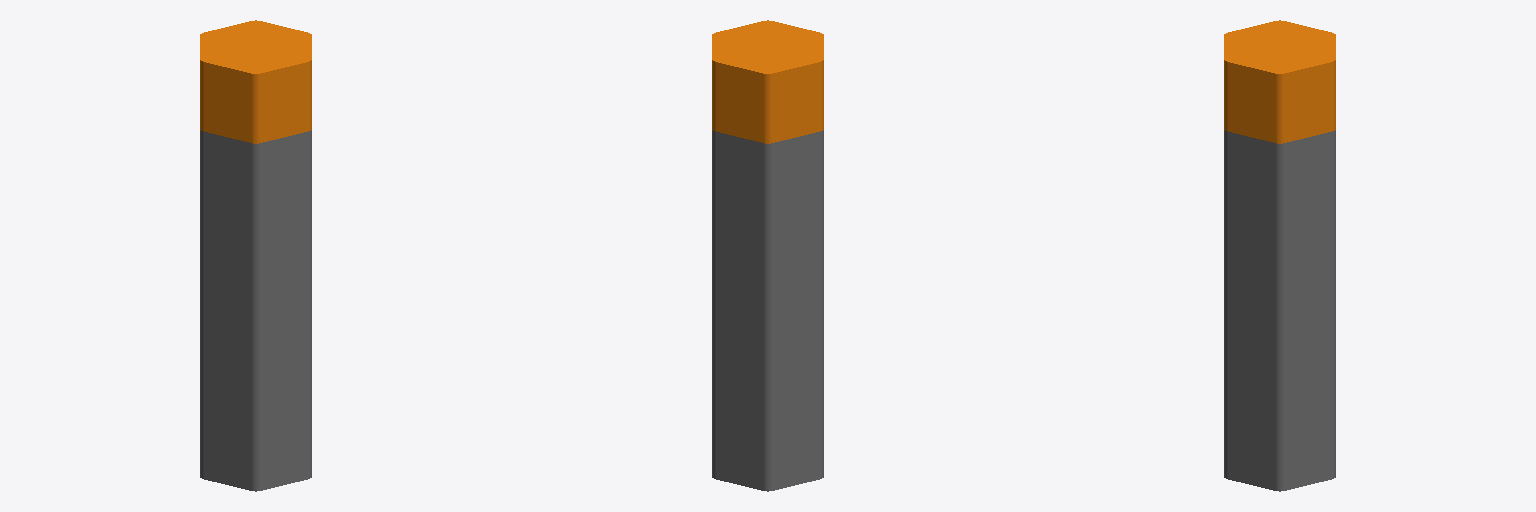
robot.urdf — fmb_peg_53_sdf_hybrid:
<?xml version="1.0" encoding="utf-8"?>
<robot name="fmb_peg_53_sdf_hybrid">
  <link name="base_link">
    <inertial>
      <mass value="0.05"/>
      <inertia ixx="1e-5" ixy="0" ixz="0" iyy="1e-5" iyz="0" izz="1e-5"/>
    </inertial>
  </link>
  <material name="tip">
    <color rgba="0.95 0.55 0.10 1.0"/>
  </material>
  <material name="body">
    <color rgba="0.50 0.50 0.50 1.0"/>
  </material>
  <link name="tip_link">
    <visual>
      <origin xyz="0.000000 0.000000 0.000000" rpy="0.000000 0.000000 0.000000"/>
      <geometry>
        <mesh filename="peg_53_tip.obj" scale="1 1 1"/>
      </geometry>
      <material name="tip"/>
    </visual>
    <collision>
      <origin xyz="0.000000 0.000000 0.000000" rpy="0.000000 0.000000 0.000000"/>
      <geometry>
        <mesh filename="peg_53_tip.obj" scale="1 1 1"/>
      </geometry>
      <sdf resolution="256"/>
    </collision>
  </link>
  <joint name="base_to_tip" type="fixed">
    <parent link="base_link"/>
    <child link="tip_link"/>
    <origin xyz="0 0 0" rpy="0 0 0"/>
  </joint>
  <link name="body_link">
    <visual>
      <origin xyz="0.000000 0.000000 0.000000" rpy="0.000000 0.000000 0.000000"/>
      <geometry>
        <mesh filename="coacd/decomp_0.obj" scale="1 1 1"/>
      </geometry>
      <material name="body"/>
    </visual>
    <collision>
      <origin xyz="0.000000 0.000000 0.000000" rpy="0.000000 0.000000 0.000000"/>
      <geometry>
        <mesh filename="coacd/decomp_0.obj" scale="1 1 1"/>
      </geometry>
    </collision>
  </link>
  <joint name="base_to_body" type="fixed">
    <parent link="base_link"/>
    <child link="body_link"/>
    <origin xyz="0 0 0" rpy="0 0 0"/>
  </joint>
</robot>

--- Facts derived from the render (not from the file) ---
Views: 3 orthographic renders of the robot side by side, from view 1: azimuth 30°, elevation 25°; view 2: azimuth 150°, elevation 25°; view 3: azimuth 270°, elevation 25°.
Model fmb_peg_53_sdf_hybrid with 3 links and 2 joints (2 fixed), rooted at base_link, posed all joints at 0.
Links seen in each view (by area): view 1: body_link, tip_link; view 2: body_link, tip_link; view 3: body_link, tip_link.
Link boxes in pixels (x1=…): body_link: x1=200, y1=130, x2=311, y2=491; tip_link: x1=200, y1=20, x2=311, y2=143; body_link: x1=712, y1=130, x2=823, y2=491; tip_link: x1=712, y1=20, x2=823, y2=143; body_link: x1=1224, y1=130, x2=1335, y2=491; tip_link: x1=1224, y1=20, x2=1335, y2=143.
Size in the robot's own frame: 0.0413 by 0.0366 by 0.15 metres.
Meshes: 2 distinct files referenced, 2 mesh visuals loaded (2 OBJ).
